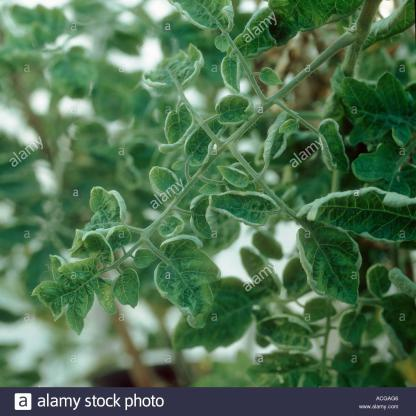tomato leaf yellow virus: (295, 166, 413, 265), (21, 242, 109, 335), (149, 233, 226, 336), (294, 217, 360, 304), (72, 182, 147, 249), (146, 34, 201, 110), (185, 104, 244, 173), (206, 189, 287, 234), (298, 113, 351, 178), (116, 161, 201, 193)
